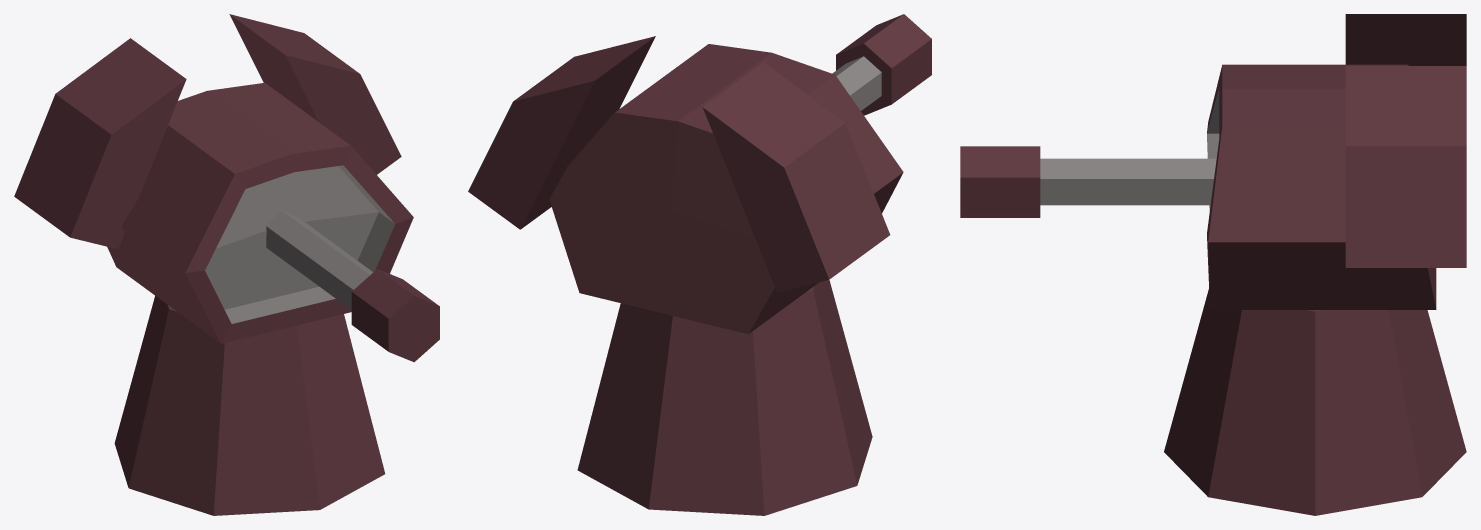
File: scifi-turret-head-beam-small.fbx
The picture shows the model from 3 angles, left to right: view 1: azimuth 30°, elevation 25°; view 2: azimuth 150°, elevation 25°; view 3: azimuth 270°, elevation 25°; orthographic projection. The views are drawn at different scales.
Visible parts, largest first — view 1: scifi-turret-head-beam-small; view 2: scifi-turret-head-beam-small; view 3: scifi-turret-head-beam-small.
Boxes of the visible parts, <box> form: scifi-turret-head-beam-small: <box>14,14,439,515</box>; scifi-turret-head-beam-small: <box>468,14,931,515</box>; scifi-turret-head-beam-small: <box>960,14,1466,515</box>.
Size of the model in its own units: 0.8193 by 0.9006 by 1.
